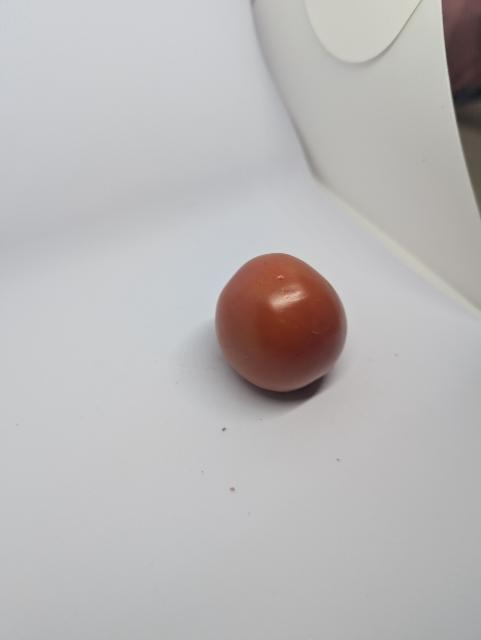red: (203, 242, 358, 403)
